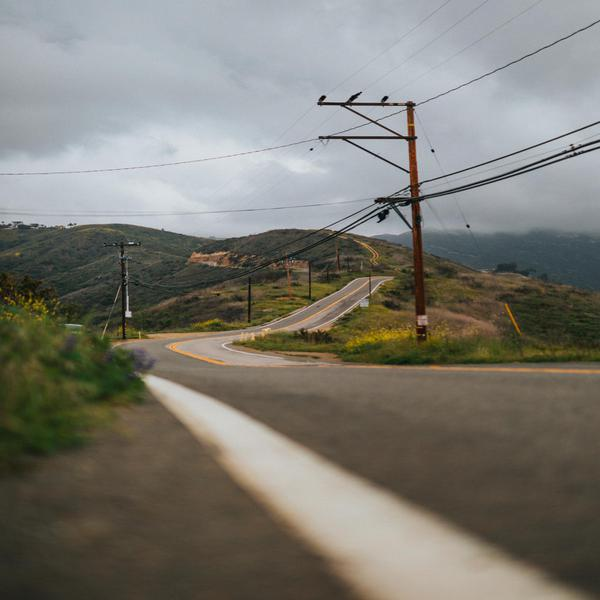utility_pole: (308, 79, 430, 207), (98, 234, 144, 286)
